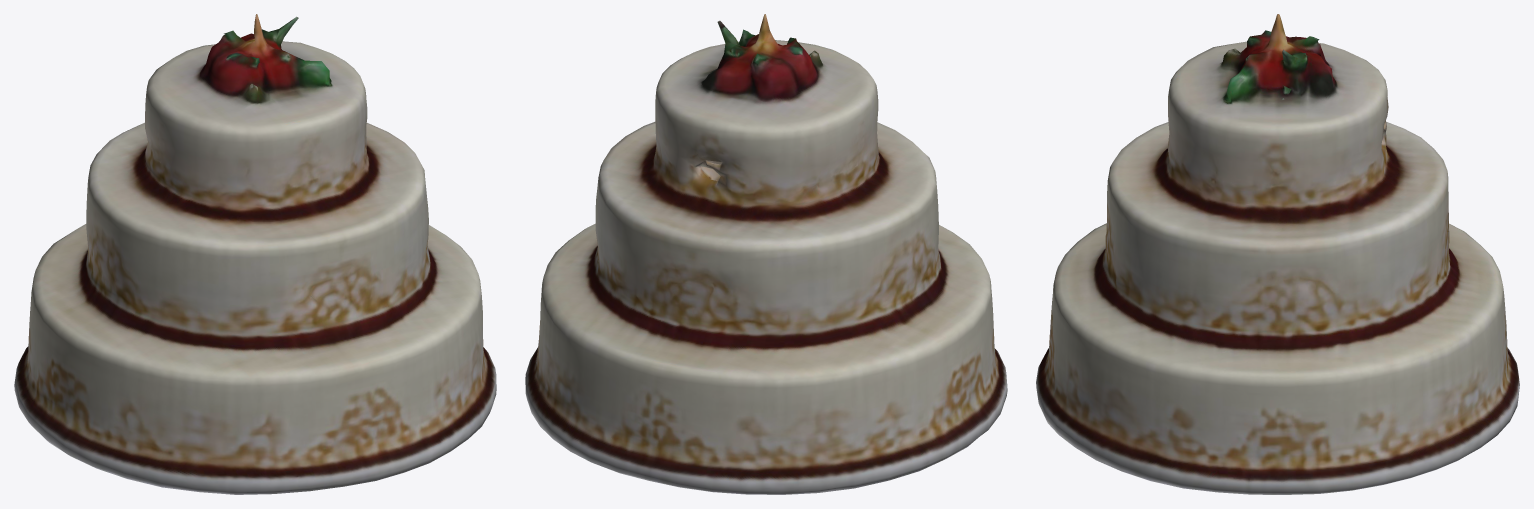
File: cake 3 pisos 02.glb
3 views of the same model, side by side, from view 1: azimuth 30°, elevation 25°; view 2: azimuth 150°, elevation 25°; view 3: azimuth 270°, elevation 25° (orthographic).
Parts seen in each view (by area): view 1: mesh; view 2: mesh; view 3: mesh.
Part boxes in pixels (left/top/right/bottom): mesh: left=14, top=14, right=496, bottom=494; mesh: left=525, top=14, right=1007, bottom=494; mesh: left=1036, top=14, right=1519, bottom=494.
Bounding box in the file's own units: 0.9964 × 0.8732 × 0.9994.
Materials: 1 (1 with a texture image).
